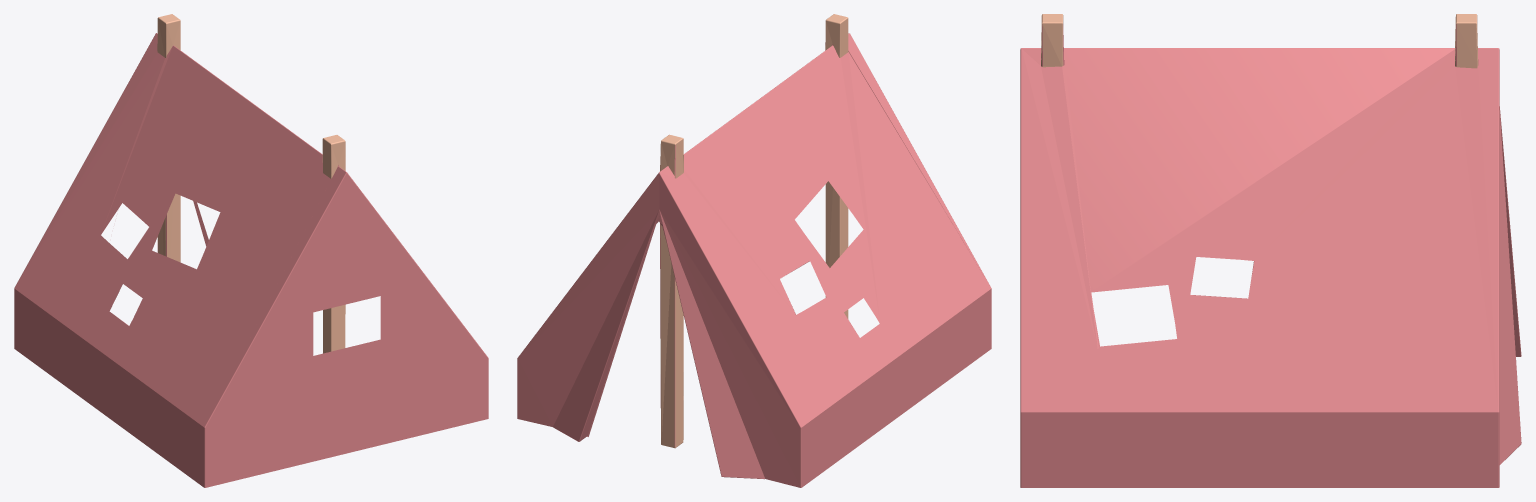
File: tent_smallOpen.glb
3 views of the same model, side by side, from view 1: azimuth 30°, elevation 25°; view 2: azimuth 150°, elevation 25°; view 3: azimuth 270°, elevation 25° (orthographic). The views are drawn at different scales.
Parts seen in each view (by area): view 1: tent_smallOpen; view 2: tent_smallOpen; view 3: tent_smallOpen.
Boxes of the visible parts, <box> form: tent_smallOpen: <box>14,14,488,487</box>; tent_smallOpen: <box>517,14,991,487</box>; tent_smallOpen: <box>1020,14,1521,487</box>.
Size of the model in its own units: 0.5476 by 0.5628 by 0.6657.
